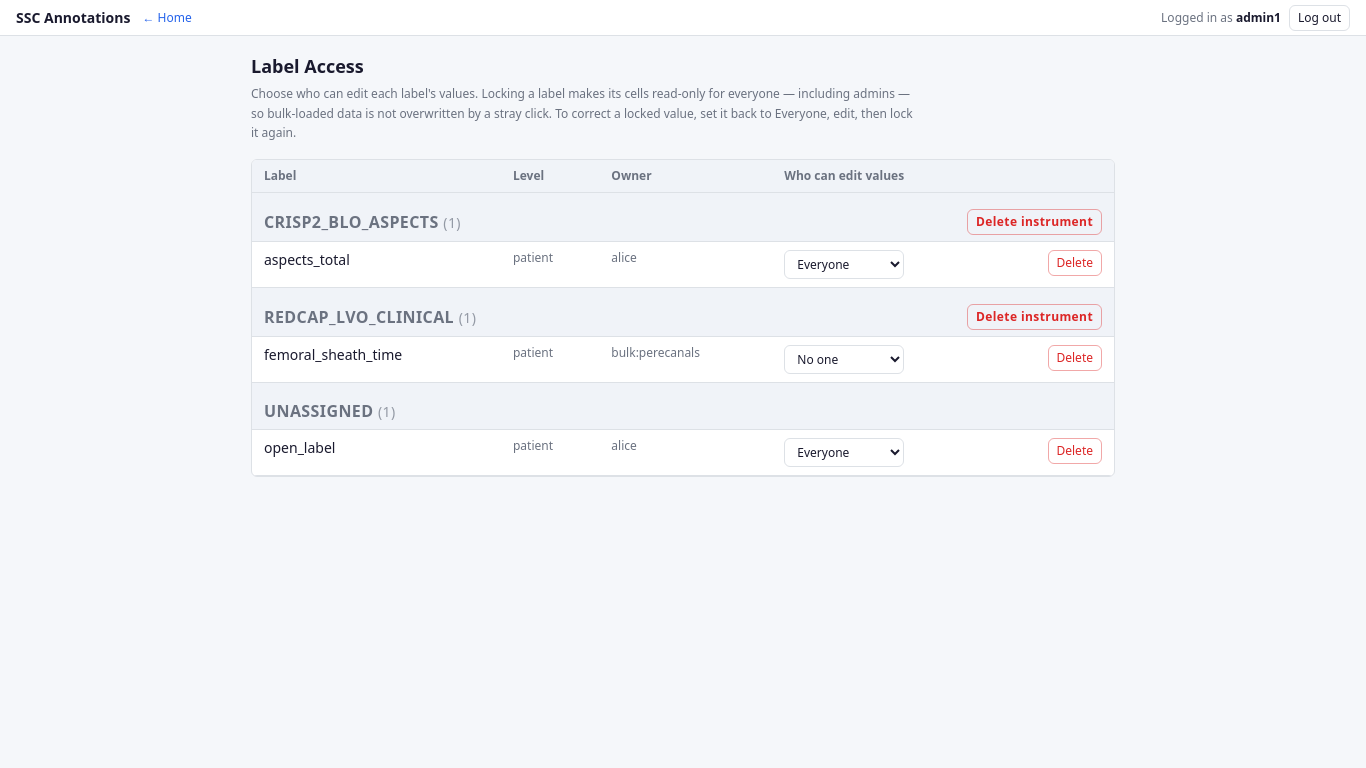
Test case: AdminLabels page › deleting an instrument confirms with its label roster, then removes the group
This screenshot has width=1366, height=768.
expect the text "aspects_total" is shown: met, box [264,250,350,268]
Click the button with aria-label "Delete instrument crisp2_blo_aspects". click: (1034, 222)
box: [967,208,1102,234]
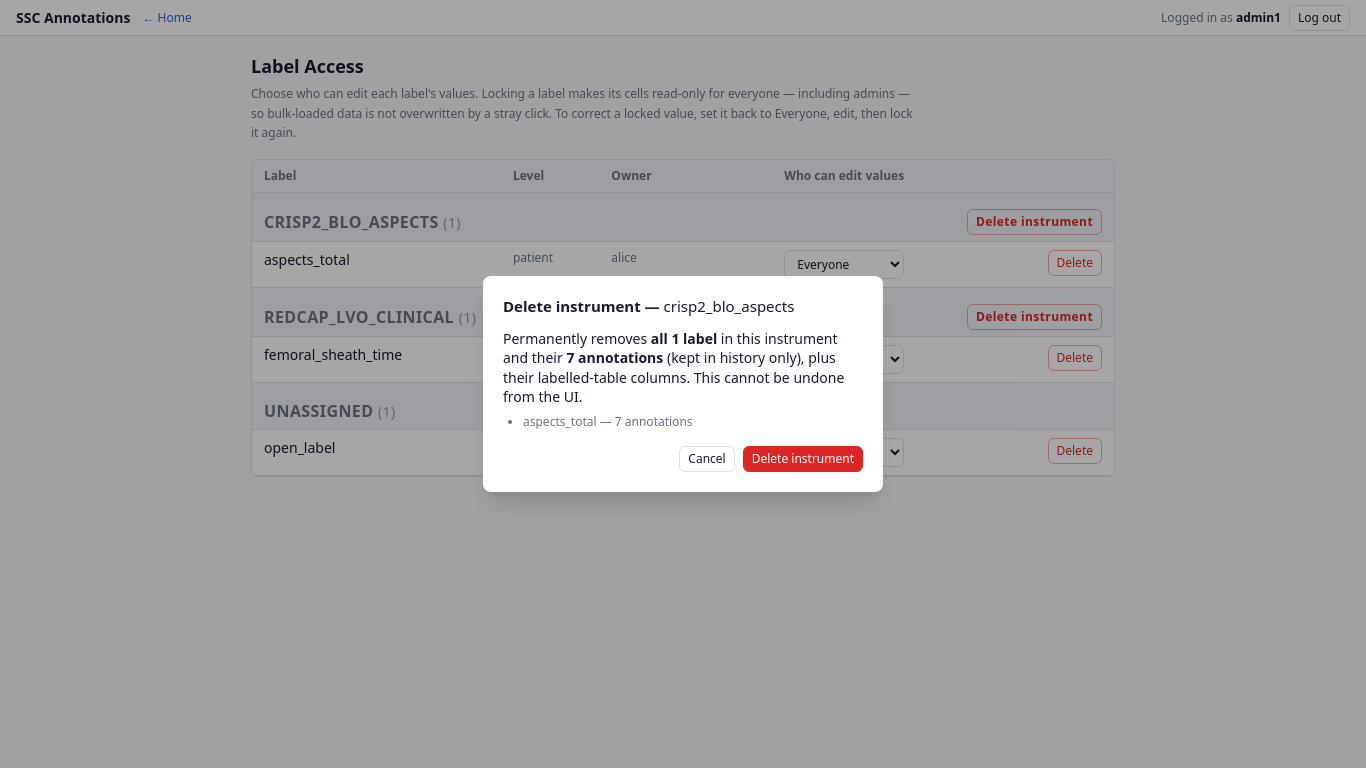
expect the text "all 1 label" is shown: met, box [651,329,717,348]
expect the text "7 annotations" is shown: met, box [566,348,663,368]
Click the button "Delete instrument". click: (803, 459)
box: [743,446,863,472]
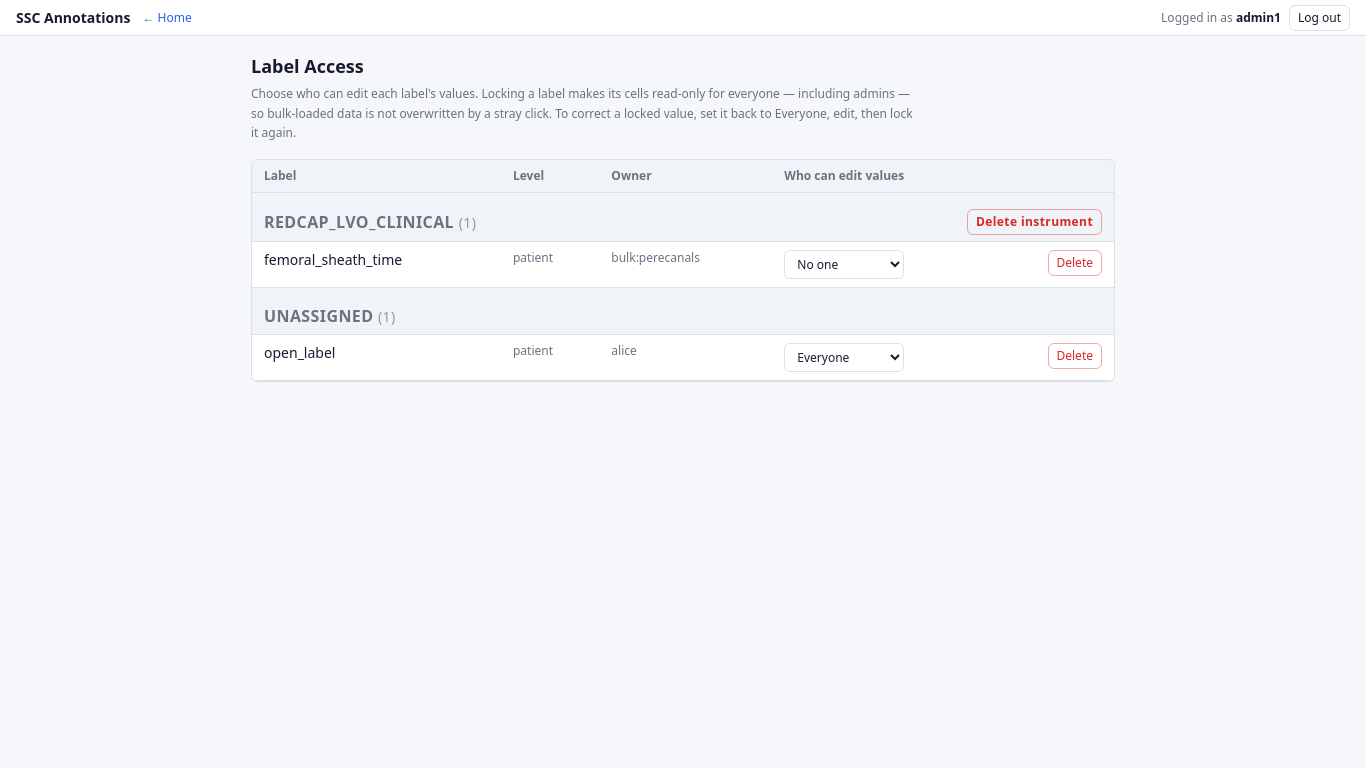
expect the text "open_label" is shown: met, box [264,342,335,362]
expect the text "aspects_total" is gone: met
